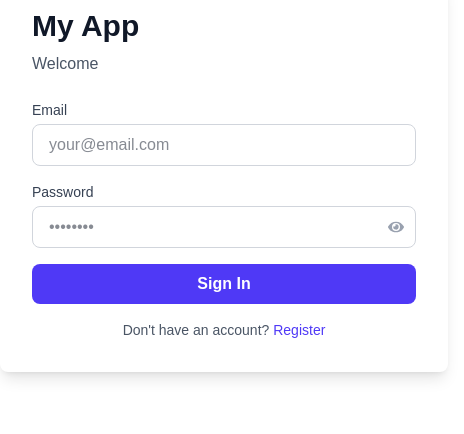
Scenario: LoginForm › displays first message when error is an array
Type "bad@example.com" into the field with placeholder "your@email.com".
click(224, 145); type("bad@example.com")  # box 32,124 -> 416,166
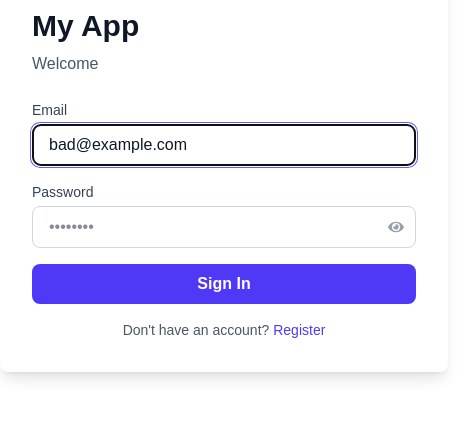
Type "123" into the password field with placeholder "••••••••".
click(224, 227); type("123")  # box 32,206 -> 416,248
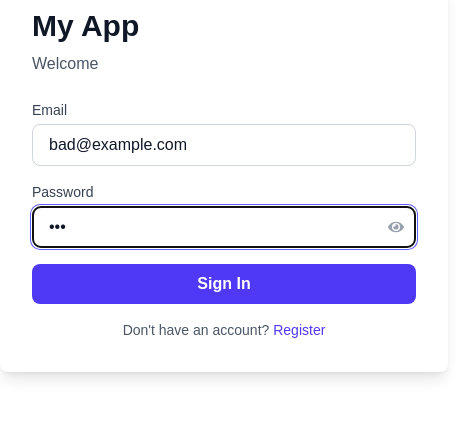
Click the button "Sign In".
click(224, 284)  # box 32,264 -> 416,304
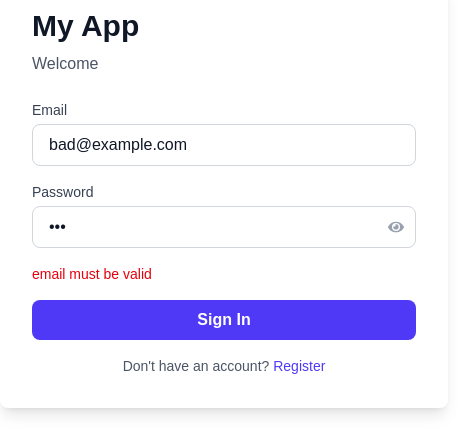
Now the text "email must be valid" is shown, box 32,266 -> 152,282
